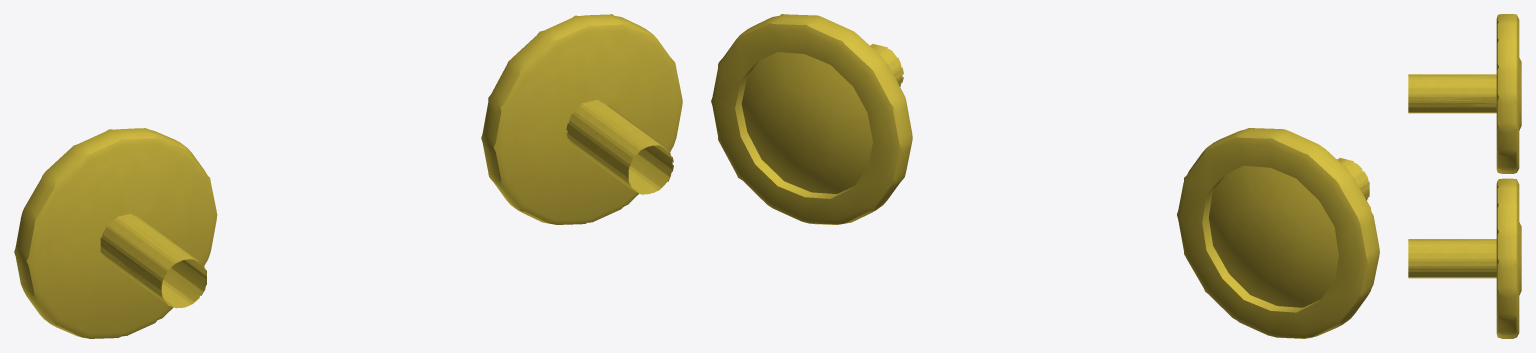
The model's file is kitchen-doorBrass.002.obj.
The picture shows the model from 3 angles, left to right: view 1: azimuth 30°, elevation 25°; view 2: azimuth 150°, elevation 25°; view 3: azimuth 270°, elevation 25°; orthographic projection. The views are drawn at different scales.
Visible parts, largest first — view 1: bookcase_Cube.019; view 2: bookcase_Cube.019; view 3: bookcase_Cube.019.
Part boxes in pixels (bbox=[...]): bookcase_Cube.019: bbox=[14, 14, 682, 338]; bookcase_Cube.019: bbox=[711, 14, 1379, 338]; bookcase_Cube.019: bbox=[1408, 14, 1521, 338].
Size of the model in its own units: 0.462 by 0.134 by 0.095.
Materials: 1 (1 with a texture image).
